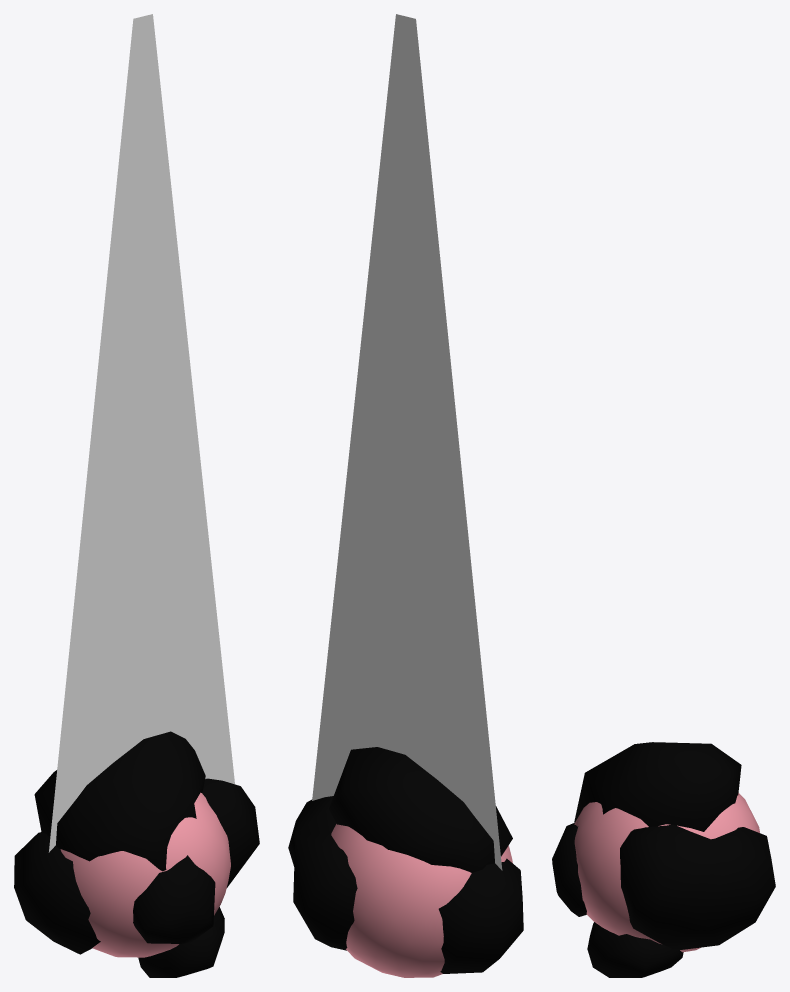
File: fallingStarsMeteorNormal.fbx
3 views of the same model, side by side, from view 1: azimuth 30°, elevation 25°; view 2: azimuth 150°, elevation 25°; view 3: azimuth 270°, elevation 25° (orthographic). The views are drawn at different scales.
Parts seen in each view (by area): view 1: Icosphere; view 2: Icosphere; view 3: Icosphere.
Part boxes in pixels (bbox=[...]): Icosphere: bbox=[14, 14, 259, 977]; Icosphere: bbox=[288, 14, 523, 977]; Icosphere: bbox=[552, 742, 775, 977].
Size of the model in its own units: 919 by 3740 by 797.
